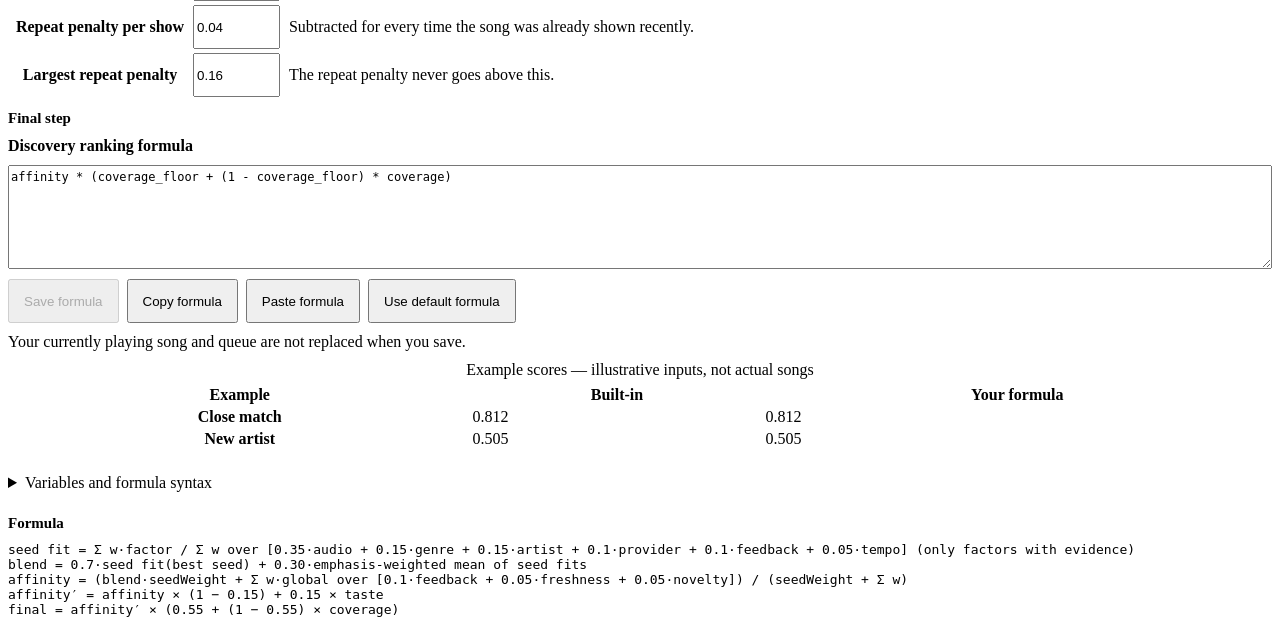
one algorithm form in every place › edits the final step on Profile too: the draft and the save reach Settings
The width and height of the screenshot is (1280, 617).
(page scrolled)
Replace the text in the text box labelled "Discovery ranking formula" with "affinity * 0.7" at (640, 217), box [8,165,1272,269]
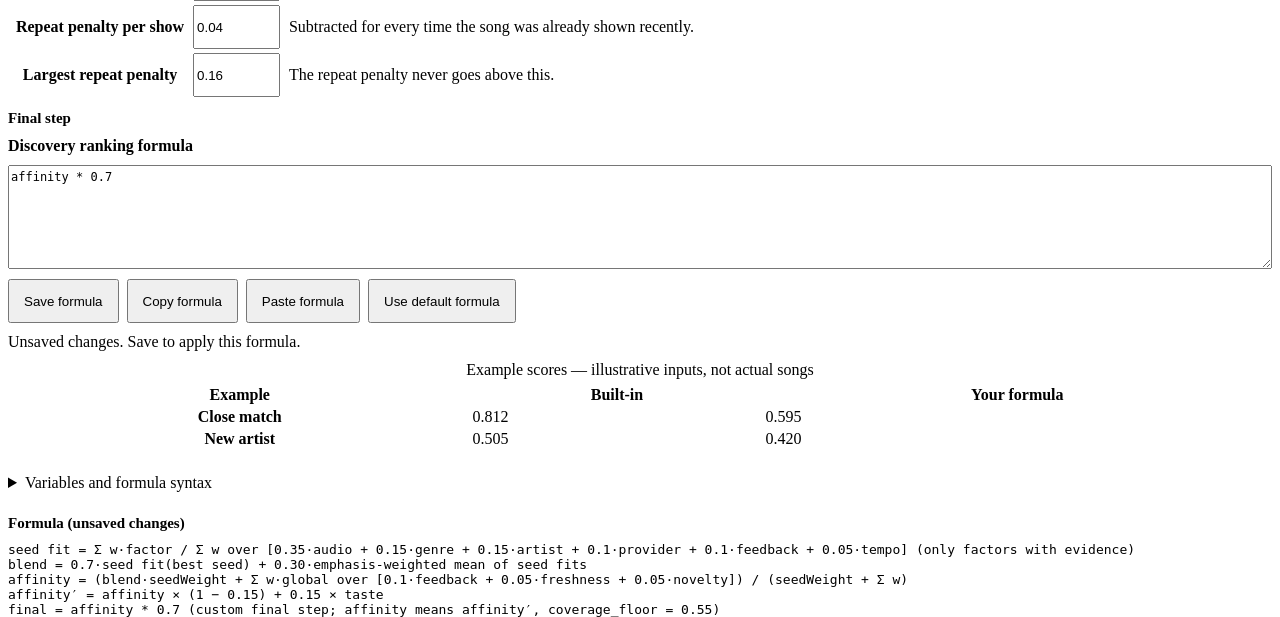
Click the button "Save formula" at (63, 301), box [8,279,118,323]
(page scrolled)
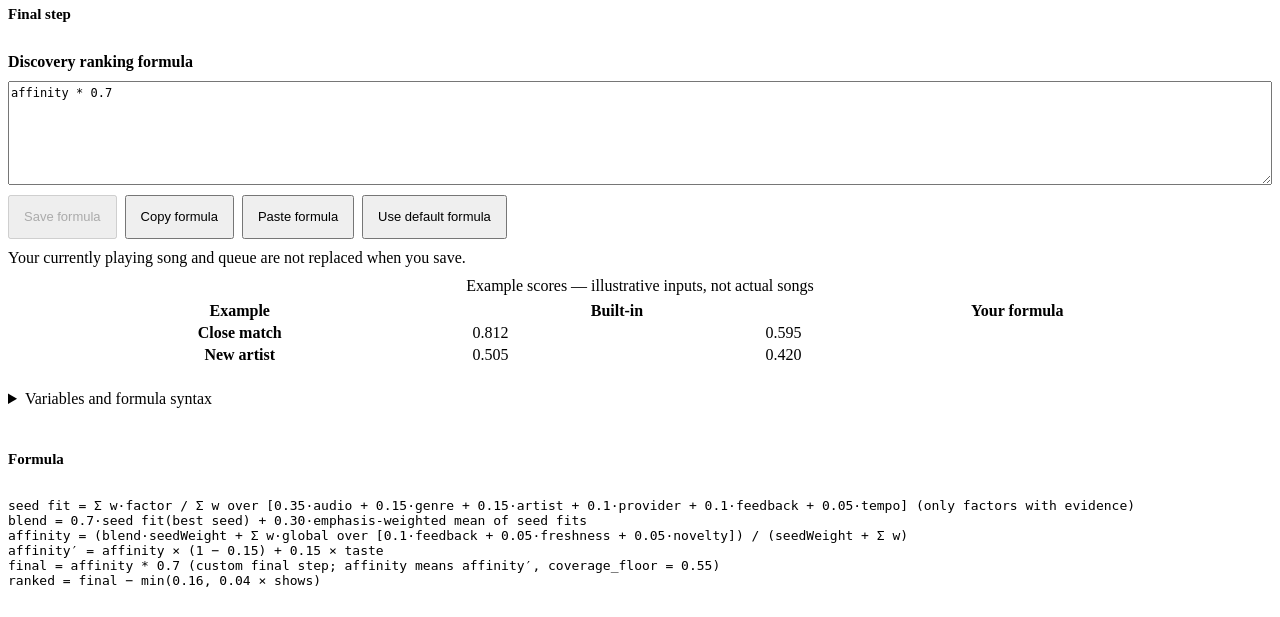
expect the text box labelled "Discovery ranking formula" holds "affinity * 0.7": met, box [8,81,1272,185]
expect the button "Save formula" is disabled: met, box [8,195,117,239]
